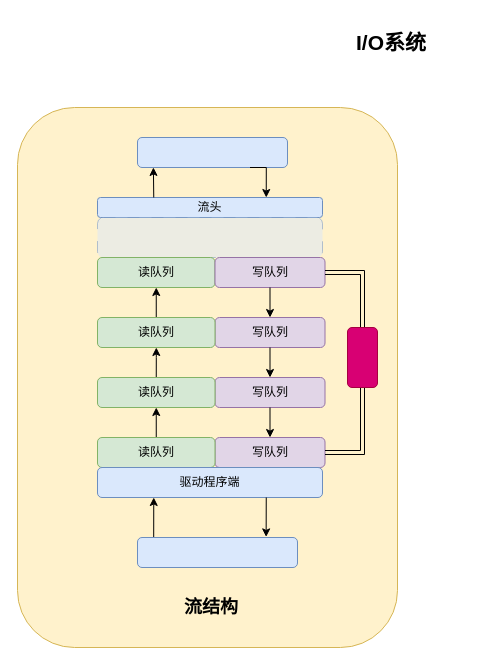
Some shapes in this 494 by 665 pixel diagram are drawn without their labels. Here are the shapes that lost their labels. From the top down, the centre of each, then its label:
At pixel 212 152: "用户进程".
At pixel 209 237: "用户空间层级 缓冲区".
At pixel 362 357: "流 模 块".
At pixel 217 552: "设备".
